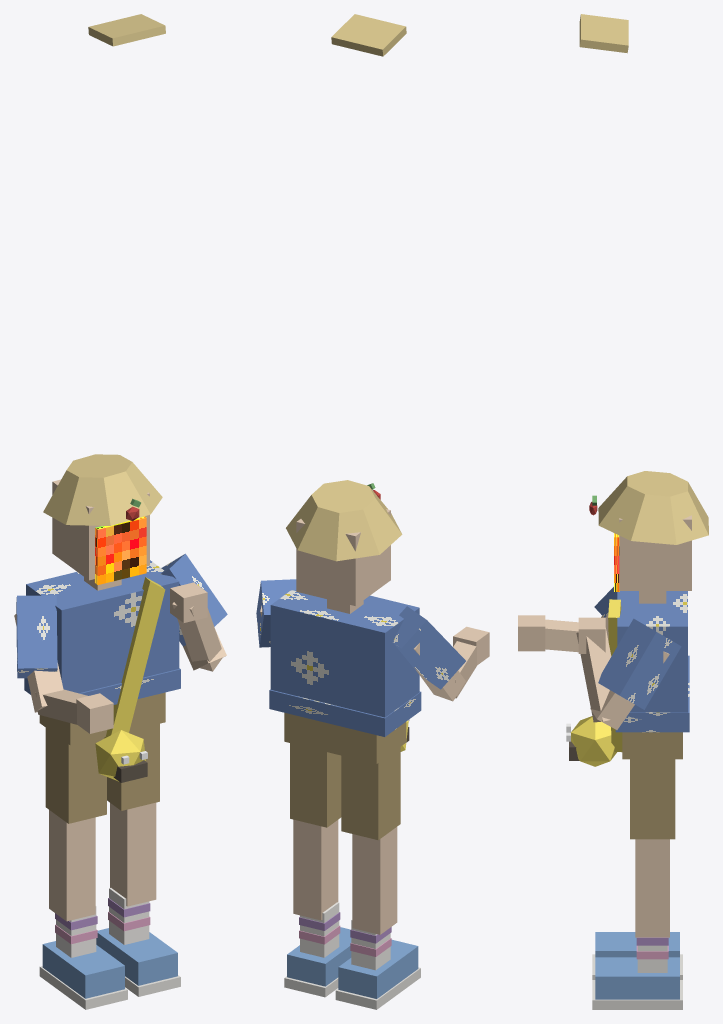
Rendered from wrenasmir.glb.
The picture shows the model from 3 angles, left to right: view 1: azimuth 30°, elevation 25°; view 2: azimuth 150°, elevation 25°; view 3: azimuth 270°, elevation 25°; orthographic projection. The views are drawn at different scales.
Visible parts, largest first — view 1: Torso, CapCrown, Shin.R, ShortLeg.R, Shin.L, Sleeve.R, OtamaNeck, Shoe.R, Face, Shoe.L, ShortLeg.L, Head (+15 smaller); view 2: Torso, CapCrown, ShortLeg.R, Shin.R, Head, Shin.L, ShortLeg.L, Hips, ShirtHem, Sleeve.R, Shoe.R, CapBrim (+9 smaller); view 3: CapCrown, Torso, Sleeve.L, ShortLeg.L, Head, Shin.L, Shoe.L, Hips, CapBrim, OtamaBall, ShirtHem, Forearm.L (+8 smaller).
Boxes of the visible parts, x1,y1,x2,y2 form: Torso: (26,560,179,693); CapCrown: (43,454,162,525); Shin.R: (49,810,95,921); ShortLeg.R: (45,728,106,823); Shin.L: (110,802,156,906); Sleeve.R: (16,595,57,678); OtamaNeck: (104,577,165,738); Shoe.R: (42,941,124,998); Face: (94,516,146,584); Shoe.L: (96,928,177,985); ShortLeg.L: (107,723,159,810); Head: (52,479,149,580); Torso: (270,590,419,717); CapCrown: (286,480,402,561); ShortLeg.R: (341,747,400,840); Shin.R: (352,827,397,934); Head: (296,509,390,605); Shin.L: (293,819,338,920); ShortLeg.L: (290,743,341,827); Hips: (284,712,406,763); ShirtHem: (269,689,421,736); Sleeve.R: (393,606,465,689); Shoe.R: (338,939,418,998); CapBrim: (331,14,406,56); CapCrown: (598,471,708,544); Torso: (617,591,687,712); Sleeve.L: (598,618,681,709); ShortLeg.L: (630,759,675,839); Head: (619,515,691,590); Shin.L: (635,839,669,937); Shoe.L: (595,957,679,999); Hips: (622,732,682,759); CapBrim: (579,14,628,53); OtamaBall: (571,716,616,766); ShirtHem: (615,655,689,732); Forearm.L: (576,628,611,722).
Size of the model in its own units: 0.8055 by 3.5 by 0.631.
Materials: 15 (2 with a texture image).
